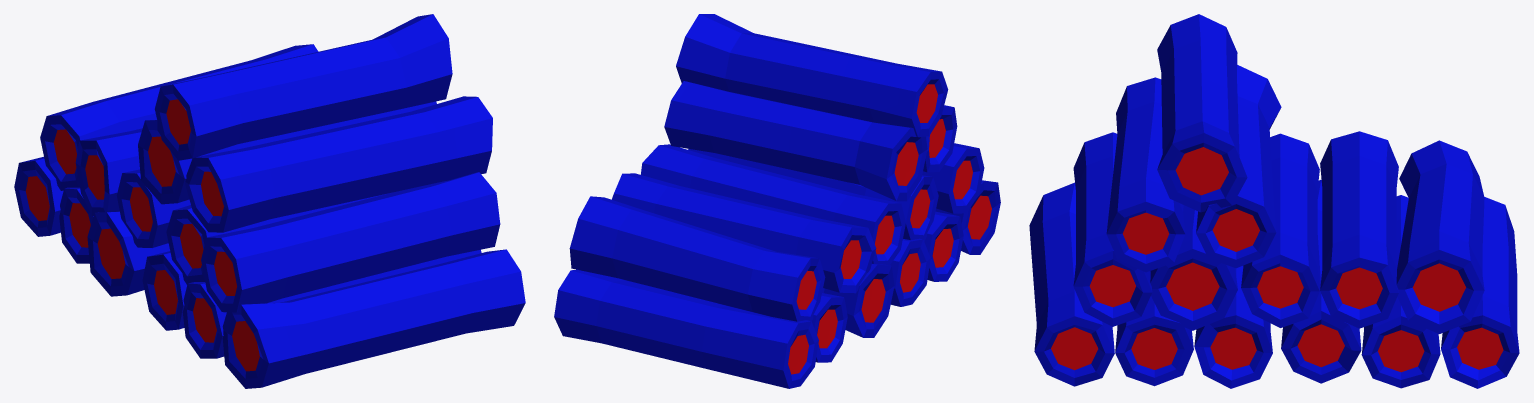
The model's file is SM_Short_LogStack5.fbx.
3 renders of one model, left to right at view 1: azimuth 30°, elevation 25°; view 2: azimuth 150°, elevation 25°; view 3: azimuth 270°, elevation 25°, orthographic. The views are drawn at different scales.
Parts seen in each view (by area): view 1: SM_Short_LogStack5; view 2: SM_Short_LogStack5; view 3: SM_Short_LogStack5.
Part boxes in pixels (bbox=[...]): SM_Short_LogStack5: bbox=[14, 14, 525, 388]; SM_Short_LogStack5: bbox=[554, 14, 1000, 388]; SM_Short_LogStack5: bbox=[1029, 14, 1519, 388].
Bounding box in the file's own units: 79.79 × 71.64 × 126.
